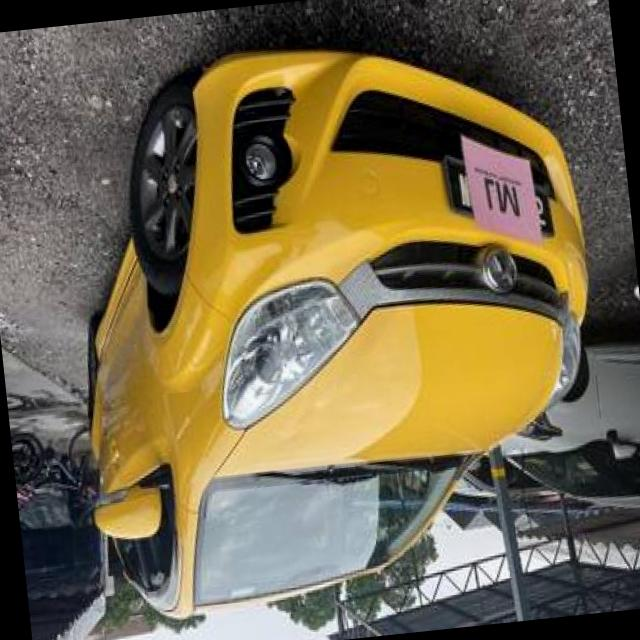PeroduaMyvi: (45, 16, 621, 632)
